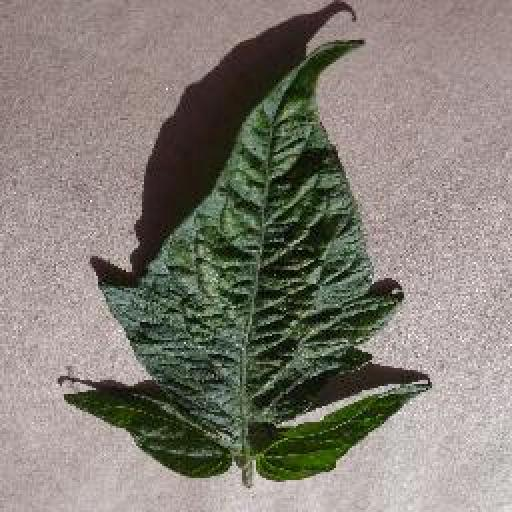disease_tomato: (66, 38, 430, 482)
